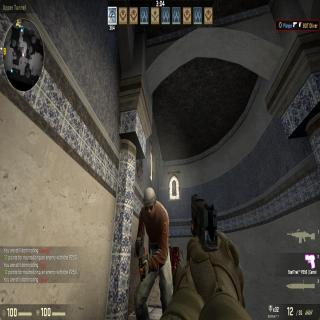T-Body: (136, 184, 175, 319)
T-Head: (144, 186, 155, 216)
